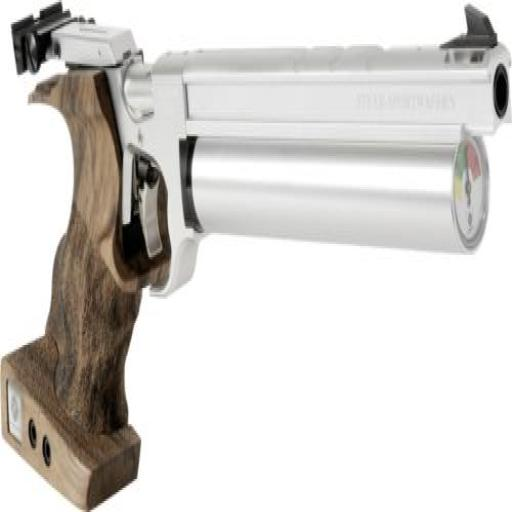shooting: (1, 0, 511, 510)
